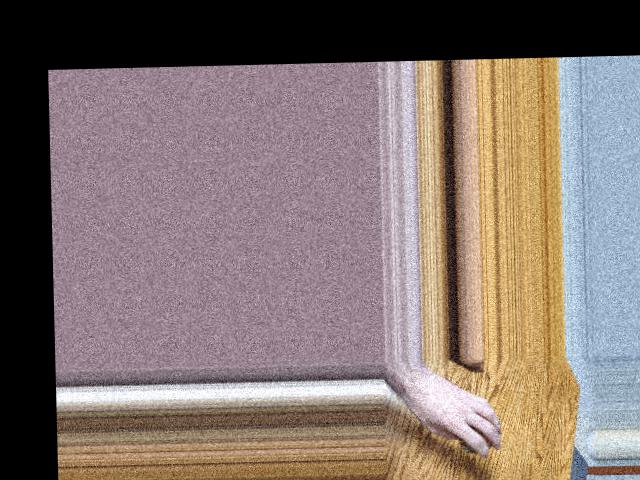onion: (454, 418, 496, 454)
